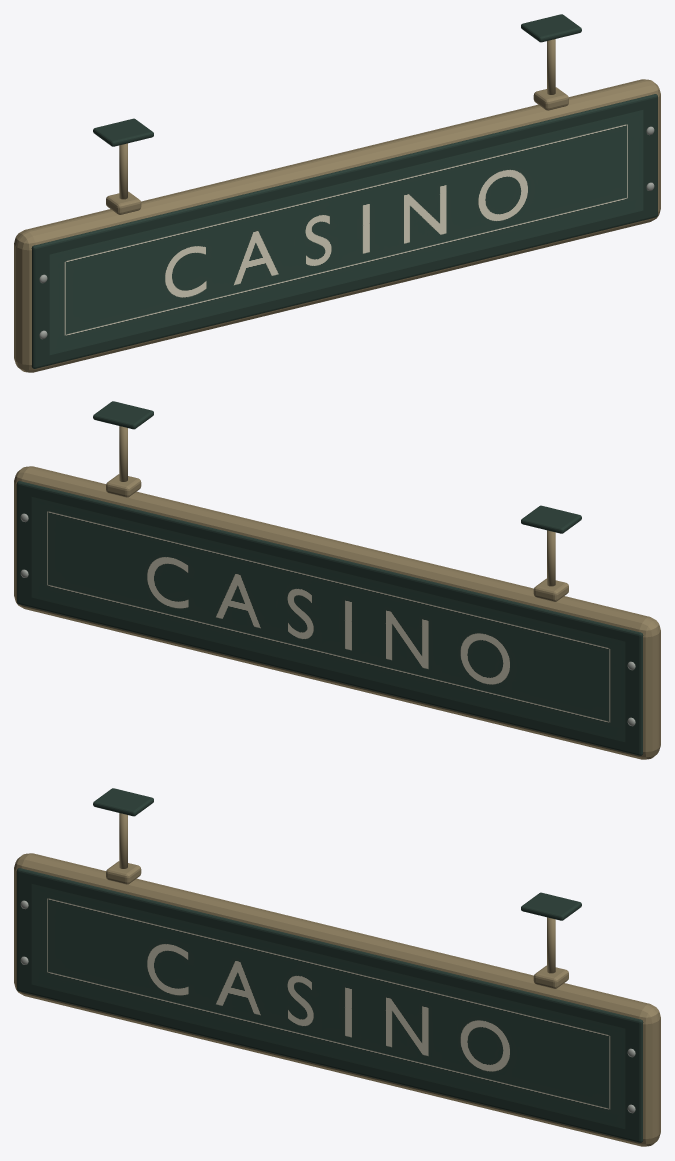
Rendered from casino-entry-sign.glb.
The picture shows the model from 3 angles, top to bottom: view 1: azimuth 30°, elevation 25°; view 2: azimuth 150°, elevation 25°; view 3: azimuth 330°, elevation 25°; orthographic projection.
Visible parts, largest first — view 1: casino-entry-sign enamel lettering, Casino signage evergreen powder coat, Casino signage aged bronze; view 2: casino-entry-sign enamel lettering, Casino signage evergreen powder coat, Casino signage aged bronze; view 3: casino-entry-sign enamel lettering, Casino signage evergreen powder coat, Casino signage aged bronze.
Boxes of the visible parts, left/top/right/bottom form: casino-entry-sign enamel lettering: left=49, top=110, right=643, bottom=354; Casino signage evergreen powder coat: left=31, top=14, right=657, bottom=368; Casino signage aged bronze: left=14, top=39, right=660, bottom=372; casino-entry-sign enamel lettering: left=31, top=497, right=625, bottom=741; Casino signage evergreen powder coat: left=17, top=401, right=643, bottom=755; Casino signage aged bronze: left=14, top=426, right=660, bottom=759; casino-entry-sign enamel lettering: left=31, top=884, right=625, bottom=1128; Casino signage evergreen powder coat: left=17, top=788, right=643, bottom=1142; Casino signage aged bronze: left=14, top=813, right=660, bottom=1146.
Bounding box in the file's own units: 2.4 × 0.78 × 0.138.
Materials: 4 (1 with a texture image).
